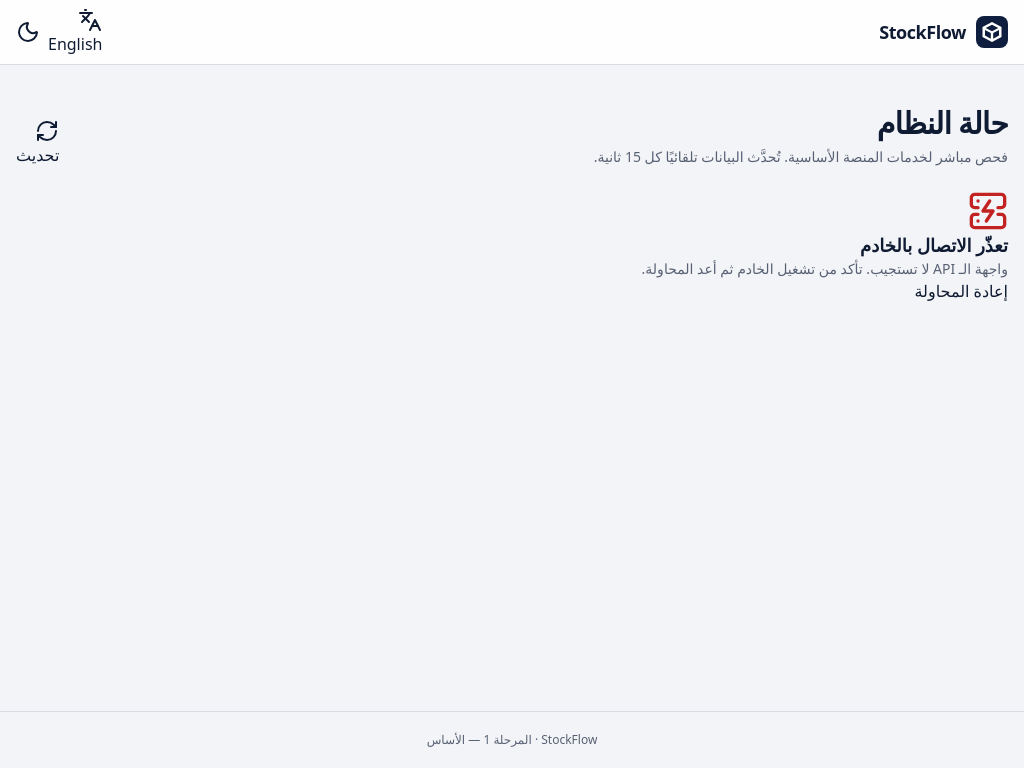
Test: SystemStatusPage › shows an error state with a working retry when the API is unreachable
The width and height of the screenshot is (1024, 768).
Expected: the message shows "تعذّر الاتصال بالخادم", [860,233,1008,257]
What coordinates should you click on to do the following:
click the button "إعادة المحاولة"
I would click on:
 (961, 291)
Its box is [914,279,1008,303].
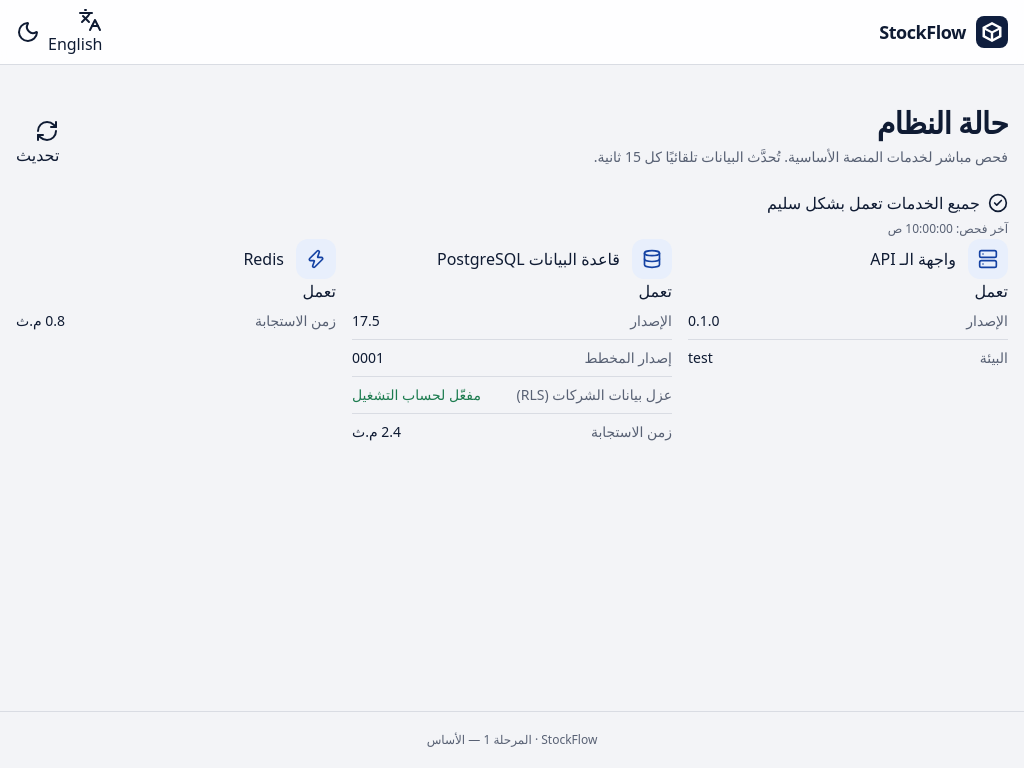
Expected: the text "جميع الخدمات تعمل بشكل سليم" is shown, [767,192,1008,214]
